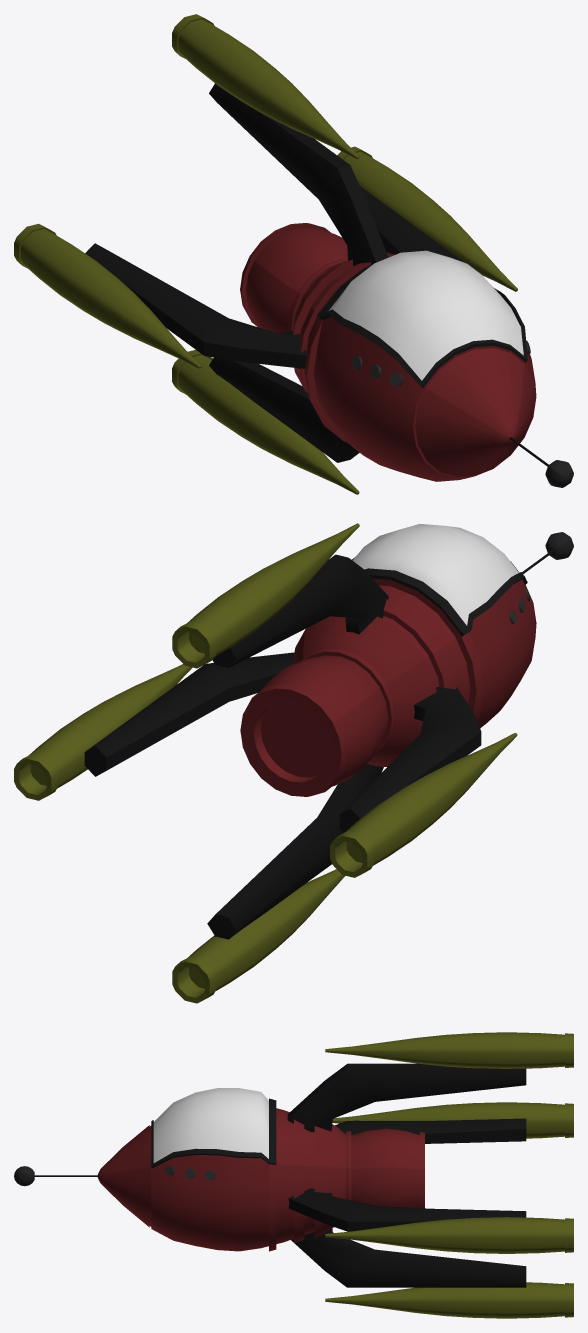
File: Ship.fbx
3 renders of one model, top to bottom at view 1: azimuth 30°, elevation 25°; view 2: azimuth 150°, elevation 25°; view 3: azimuth 270°, elevation 25°, orthographic. The views are drawn at different scales.
Visible parts, largest first — view 1: polySurface118; view 2: polySurface118; view 3: polySurface118.
Boxes of the visible parts, x1,y1,x2,y2 form: polySurface118: (14,14,573,494); polySurface118: (14,523,573,1003); polySurface118: (14,1032,573,1318).
Bounding box in the file's own units: 27.83 × 28.15 × 50.72.
